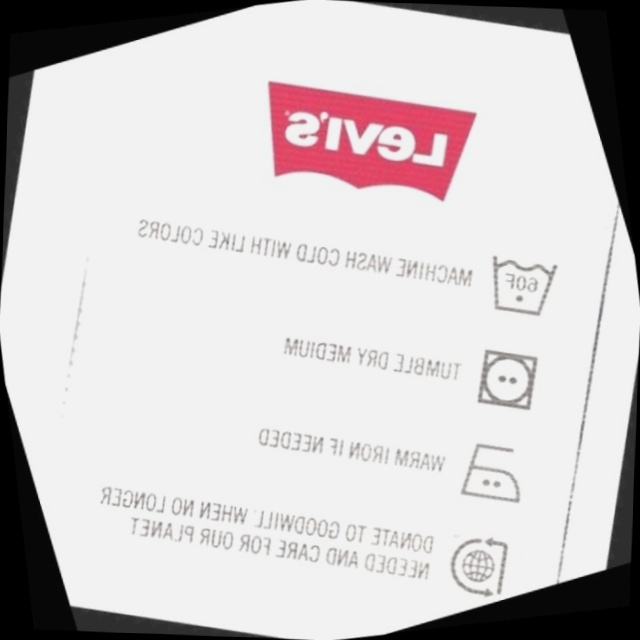30C: (471, 230, 573, 334)
iron_medium: (438, 422, 541, 524)
tumble_dry_medium: (455, 329, 555, 429)
